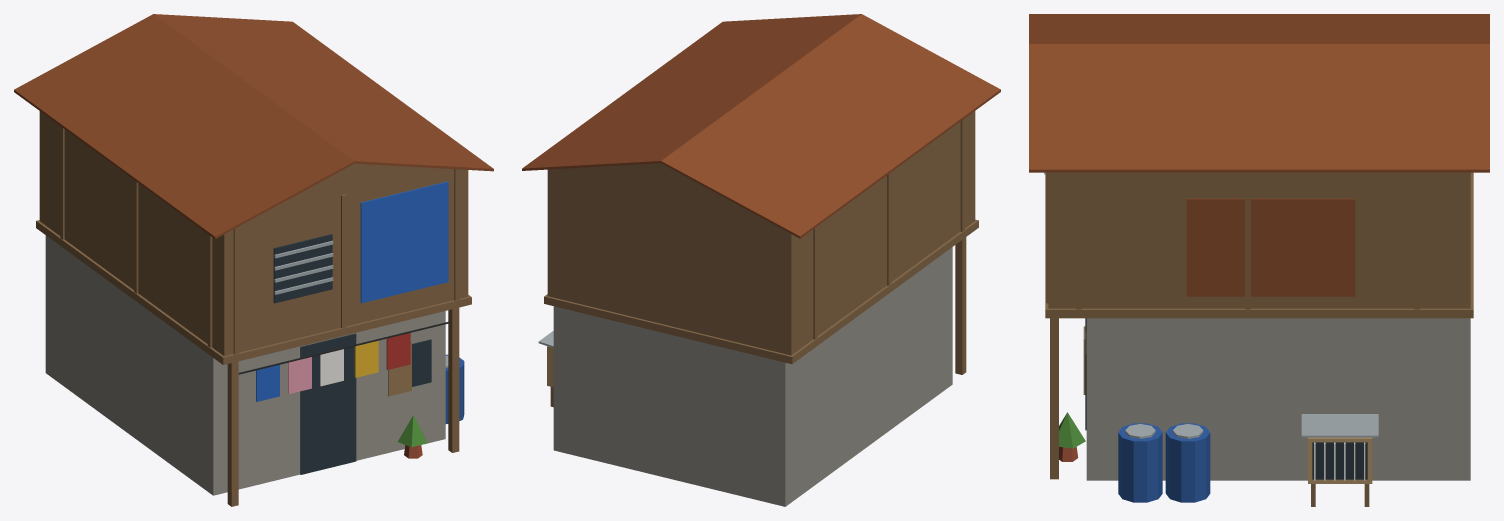
File: BAY_I_Shanty2F_G.glb
The picture shows the model from 3 angles, left to right: view 1: azimuth 30°, elevation 25°; view 2: azimuth 150°, elevation 25°; view 3: azimuth 270°, elevation 25°; orthographic projection. The views are drawn at different scales.
Parts seen in each view (by area): view 1: BAY_I_Shanty2F_G; view 2: BAY_I_Shanty2F_G; view 3: BAY_I_Shanty2F_G.
Part boxes in pixels (x1,y1,x2,y2): BAY_I_Shanty2F_G: (14,14,493,506); BAY_I_Shanty2F_G: (522,14,1000,506); BAY_I_Shanty2F_G: (1029,14,1489,506).
Bounding box in the file's own units: 5.35 × 5.34 × 6.
1 material, 1 textured.
